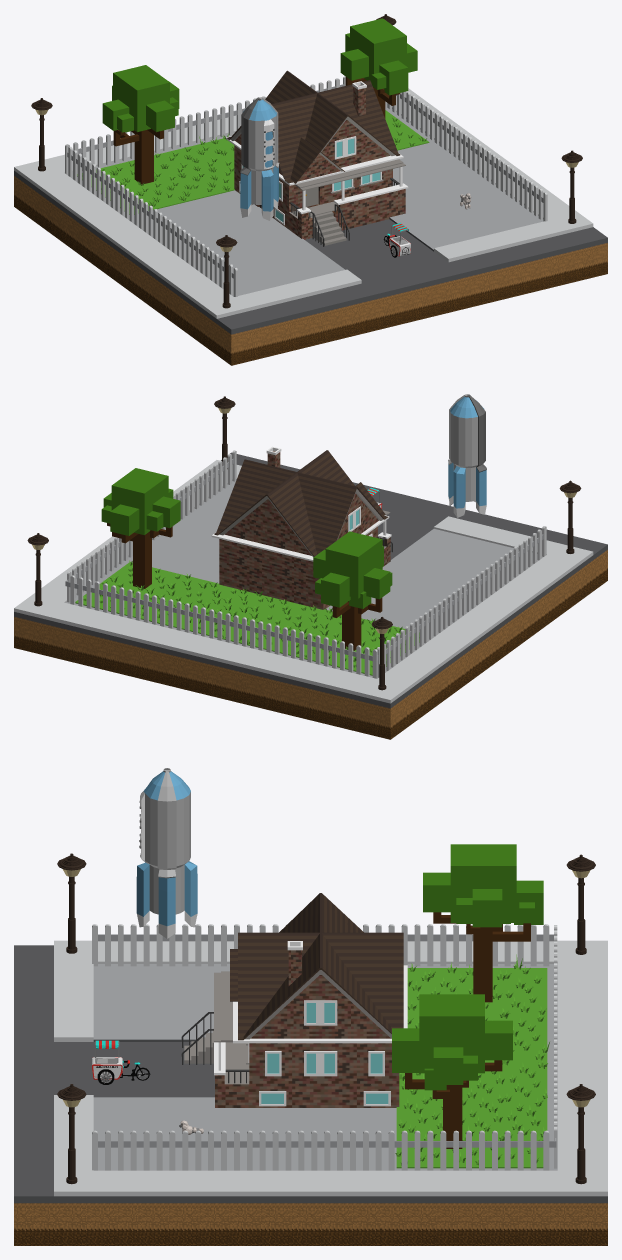
3 renders of one model, top to bottom at view 1: azimuth 30°, elevation 25°; view 2: azimuth 150°, elevation 25°; view 3: azimuth 270°, elevation 25°, orthographic. The views are drawn at different scales.
Visible parts, largest first — view 1: Cube.004, Cube.117, OBJRANDOM_ROCKETSHIP, VEHICLES_SNOWBAL_BIKE; view 2: Cube.004, Cube.117, OBJRANDOM_ROCKETSHIP; view 3: Cube.004, Cube.117, OBJRANDOM_ROCKETSHIP, VEHICLES_SNOWBAL_BIKE.
Part boxes in pixels (x1=…): Cube.004: x1=14, y1=14, x2=607, y2=365; Cube.117: x1=226, y1=70, x2=408, y2=246; OBJRANDOM_ROCKETSHIP: x1=240, y1=97, x2=279, y2=220; VEHICLES_SNOWBAL_BIKE: x1=383, y1=223, x2=410, y2=257; Cube.004: x1=14, y1=396, x2=607, y2=739; Cube.117: x1=211, y1=446, x2=392, y2=609; OBJRANDOM_ROCKETSHIP: x1=448, y1=394, x2=486, y2=517; Cube.004: x1=14, y1=844, x2=607, y2=1245; Cube.117: x1=181, y1=893, x2=407, y2=1107; OBJRANDOM_ROCKETSHIP: x1=136, y1=768, x2=197, y2=938; VEHICLES_SNOWBAL_BIKE: x1=92, y1=1040, x2=150, y2=1084.
Bounding box in the file's own units: 4000 × 2120 × 4000.
Materials: 33 (5 with a texture image).
